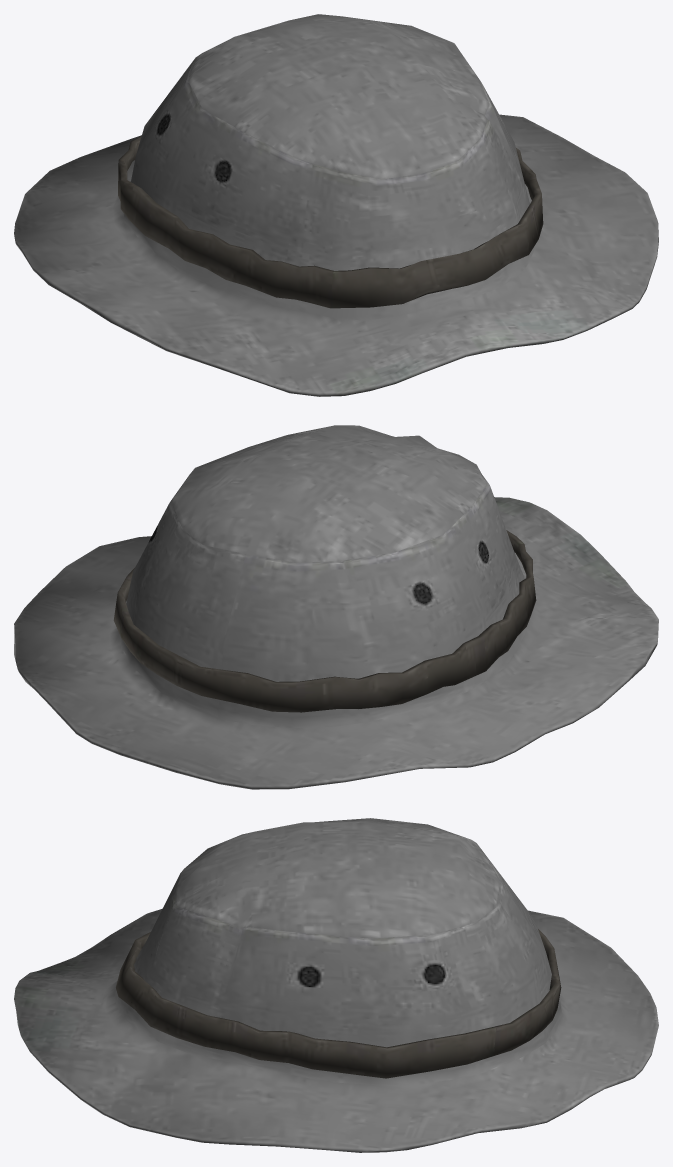
Rendered from hatboonie_worldmodel.glb.
The picture shows the model from 3 angles, top to bottom: view 1: azimuth 30°, elevation 25°; view 2: azimuth 150°, elevation 25°; view 3: azimuth 270°, elevation 25°; orthographic projection. The views are drawn at different scales.
Visible parts, largest first — view 1: hat.boonie_LOD0; view 2: hat.boonie_LOD0; view 3: hat.boonie_LOD0.
Boxes of the visible parts, x1,y1,x2,y2 form: hat.boonie_LOD0: (14, 14, 658, 396); hat.boonie_LOD0: (14, 425, 658, 789); hat.boonie_LOD0: (14, 818, 658, 1152).
Size of the model in its own units: 0.2892 by 0.1033 by 0.3026.
Materials: 1 (1 with a texture image).
